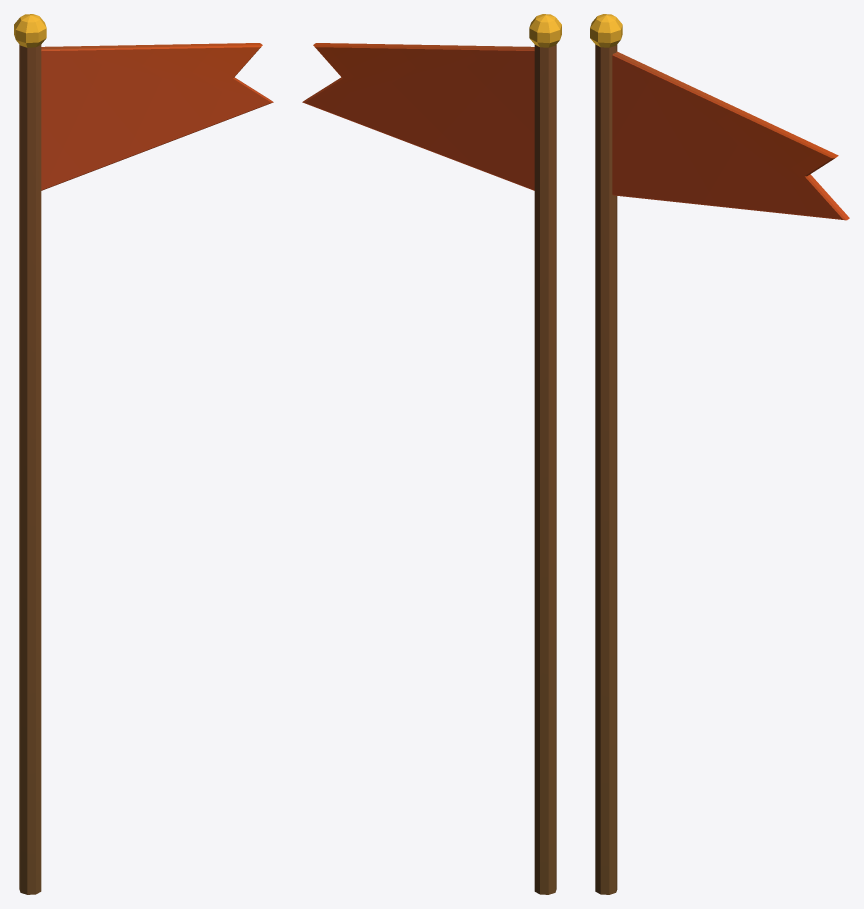
The model's file is Flag_Pennant_01.glb.
The picture shows the model from 3 angles, left to right: view 1: azimuth 30°, elevation 25°; view 2: azimuth 150°, elevation 25°; view 3: azimuth 330°, elevation 25°; orthographic projection.
Visible parts, largest first — view 1: Flag_Pennant_01; view 2: Flag_Pennant_01; view 3: Flag_Pennant_01.
Part boxes in pixels (x1,y1,x2,y2): Flag_Pennant_01: [14, 14, 273, 894]; Flag_Pennant_01: [302, 14, 561, 894]; Flag_Pennant_01: [590, 14, 849, 894].
Size of the model in its own units: 1.17 by 3.8 by 0.1331.
